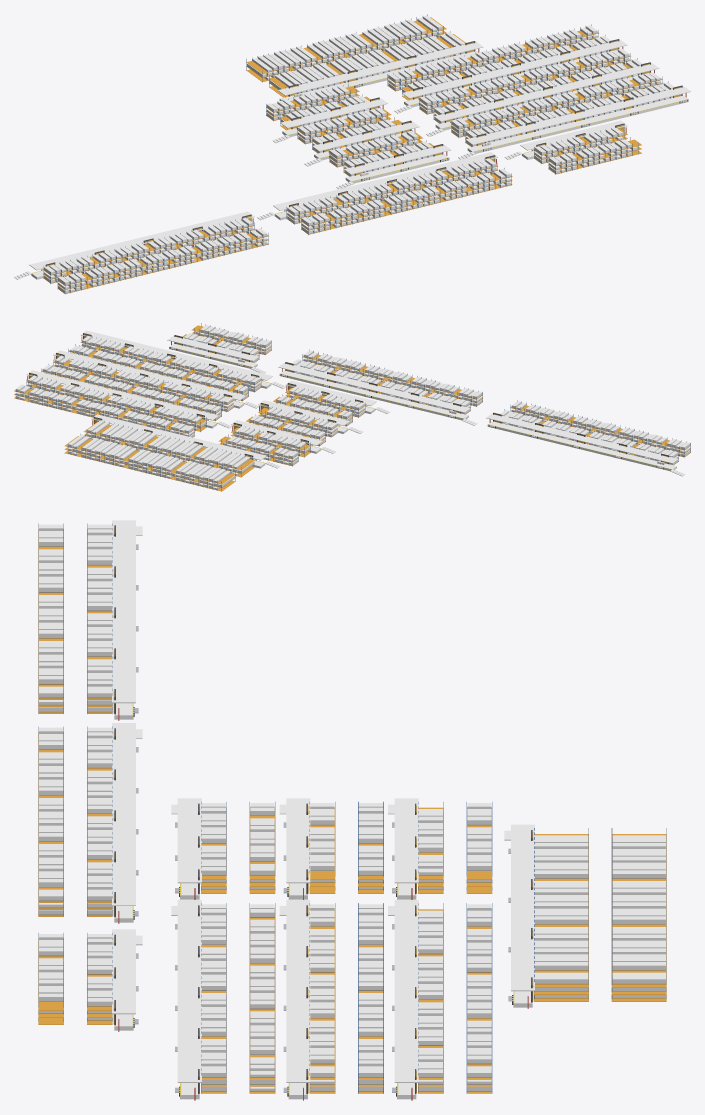
Rendered from site_proposed_full.opt.glb.
The picture shows the model from 3 angles, top to bottom: view 1: azimuth 30°, elevation 25°; view 2: azimuth 150°, elevation 25°; view 3: azimuth 270°, elevation 25°; orthographic projection. The views are drawn at different scales.
Visible parts, largest first — view 1: WHE-7_dock, WHE-7_dcan, WHE-6_dcan, WHE-1_dcan, WHE-5_dcan, WHE-8_dcan, WHE-9_dcan, WHE-5_dock, WHE-4_dock, WHE-2_dcan, WHE-4_dcan, WHE-3_dcan (+2 smaller); view 2: WHE-8_dock, WHE-9_dock, WHE-8_dcan, WHE-9_dcan, WHE-6_dcan, WHE-7_dcan, WHE-1_dcan, WHE-5_dcan, WHE-10_dock, WHE-10_dcan, WHE-3_dcan, WHE-2_dcan (+9 smaller); view 3: WHE-6_dcan, WHE-1_dcan, WHE-7_dcan, WHE-8_dcan, WHE-9_dcan, WHE-5_dcan, WHE-3_dcan, WHE-2_dcan, WHE-4_dcan, WHE-10_dcan, WHE-5_bm170_2, WHE-5_bm150_2.
Boxes of the visible parts, left/top/right/bottom form: WHE-7_dock: left=467, top=95, right=688, bottom=153; WHE-7_dcan: left=465, top=86, right=690, bottom=144; WHE-6_dcan: left=434, top=63, right=659, bottom=121; WHE-1_dcan: left=402, top=40, right=627, bottom=98; WHE-5_dcan: left=278, top=41, right=483, bottom=95; WHE-8_dcan: left=29, top=211, right=254, bottom=270; WHE-9_dcan: left=273, top=152, right=498, bottom=210; WHE-5_dock: left=279, top=51, right=477, bottom=100; WHE-4_dock: left=345, top=154, right=449, bottom=183; WHE-2_dcan: left=280, top=98, right=387, bottom=128; WHE-4_dcan: left=344, top=144, right=450, bottom=174; WHE-3_dcan: left=312, top=121, right=419, bottom=151; WHE-8_dock: left=487, top=421, right=676, bottom=470; WHE-9_dock: left=279, top=370, right=468, bottom=420; WHE-8_dcan: left=486, top=413, right=678, bottom=463; WHE-9_dcan: left=278, top=362, right=470, bottom=412; WHE-6_dcan: left=53, top=350, right=245, bottom=400; WHE-7_dcan: left=81, top=330, right=272, bottom=380; WHE-1_dcan: left=26, top=370, right=218, bottom=420; WHE-5_dcan: left=91, top=414, right=266, bottom=460; WHE-10_dock: left=169, top=343, right=257, bottom=368; WHE-10_dcan: left=167, top=335, right=258, bottom=361; WHE-3_dcan: left=258, top=400, right=349, bottom=425; WHE-2_dcan: left=231, top=420, right=322, bottom=445; WHE-6_dcan: left=286, top=900, right=310, bottom=1082; WHE-1_dcan: left=394, top=900, right=418, bottom=1082; WHE-7_dcan: left=177, top=900, right=201, bottom=1082; WHE-8_dcan: left=112, top=520, right=135, bottom=703; WHE-9_dcan: left=112, top=723, right=135, bottom=905; WHE-5_dcan: left=511, top=824, right=534, bottom=991; WHE-3_dcan: left=286, top=798, right=310, bottom=883; WHE-2_dcan: left=394, top=798, right=418, bottom=883; WHE-4_dcan: left=177, top=798, right=201, bottom=883; WHE-10_dcan: left=112, top=929, right=135, bottom=1014; WHE-5_bm170_2: left=611, top=834, right=666, bottom=987; WHE-5_bm150_2: left=535, top=834, right=588, bottom=987.
Size of the model in its own units: 350 by 6.15 by 162.
